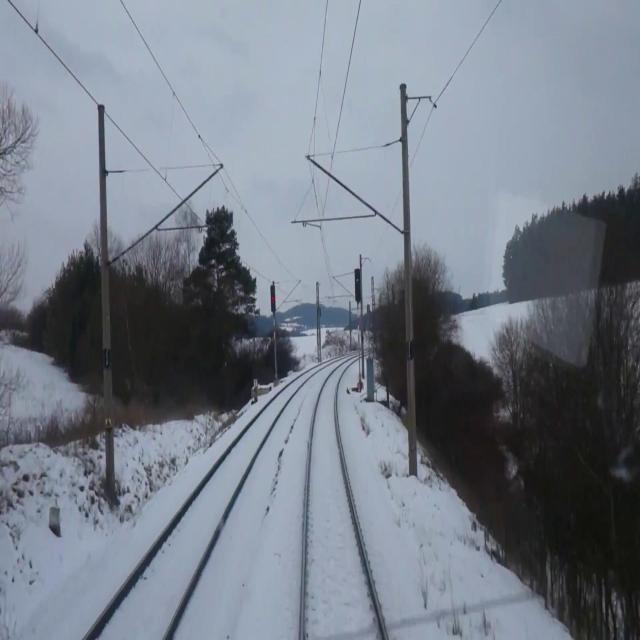rail-track: (88, 376, 304, 639), (305, 365, 383, 639)
